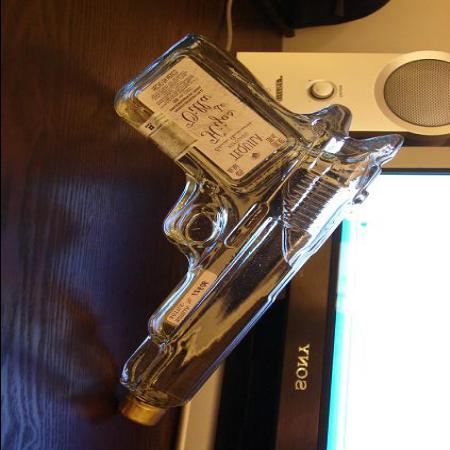Pistol: (112, 37, 404, 429)
